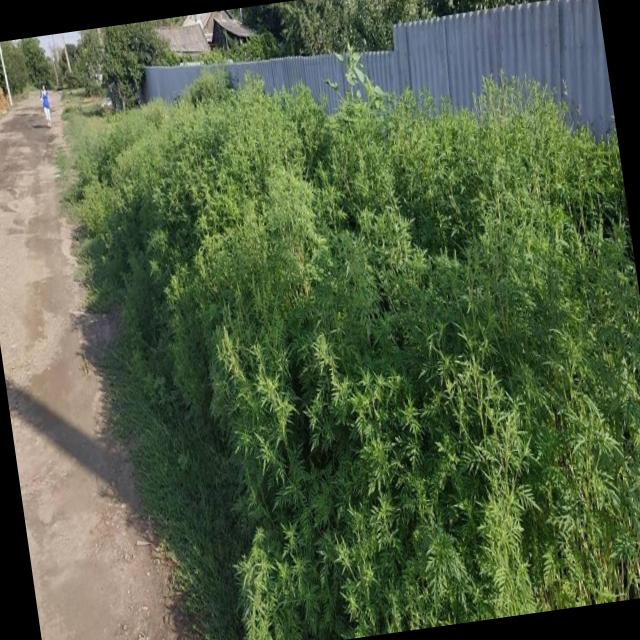ambrosia: (176, 309, 328, 640), (304, 328, 461, 638), (102, 79, 338, 273), (450, 63, 634, 297), (445, 317, 565, 609), (338, 64, 474, 296), (553, 326, 640, 592)
